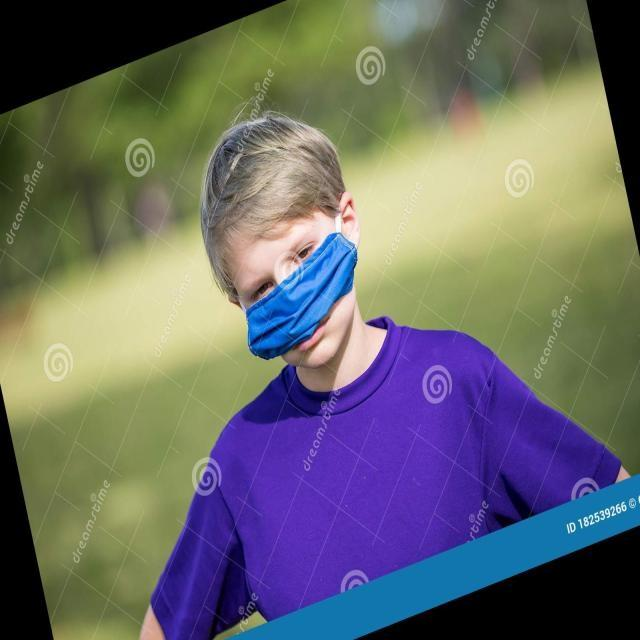hairnet: (226, 162, 353, 375)
